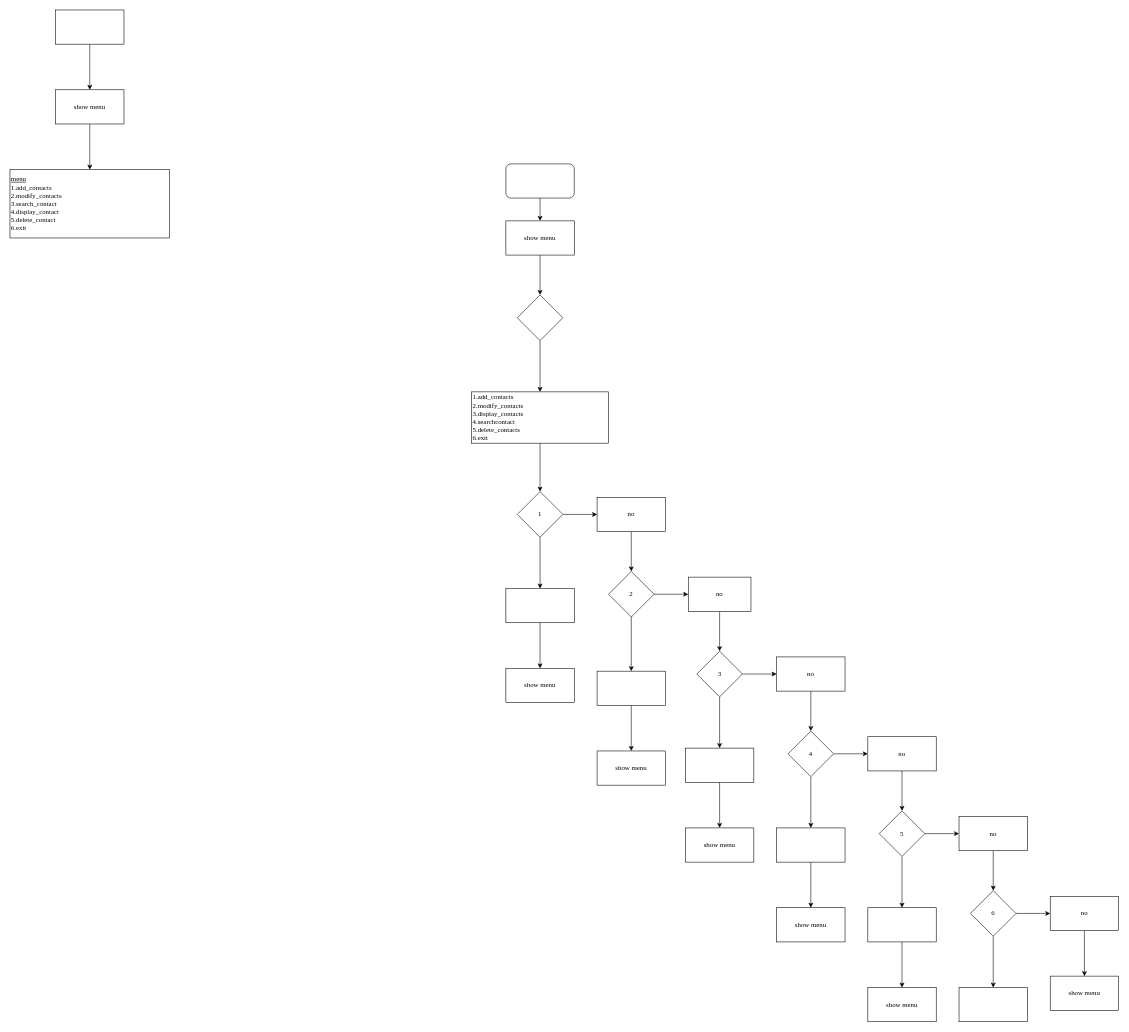
This 1129x1032 diagram has some shape labels left out. The centre of each missing label's shape, as x and y in pixels:
"select option" belongs at point (540, 317).
"start" belongs at point (539, 180).
"users" belongs at point (89, 26).
"yes add_contacts" belongs at point (539, 605).
"yes delete_contact" belongs at point (901, 924).
"yes display_contacts" belongs at point (719, 765).
"yes exit" belongs at point (992, 1004).
"yes modify_contacts" belongs at point (631, 688).
"yes search_contacts" belongs at point (810, 844).
